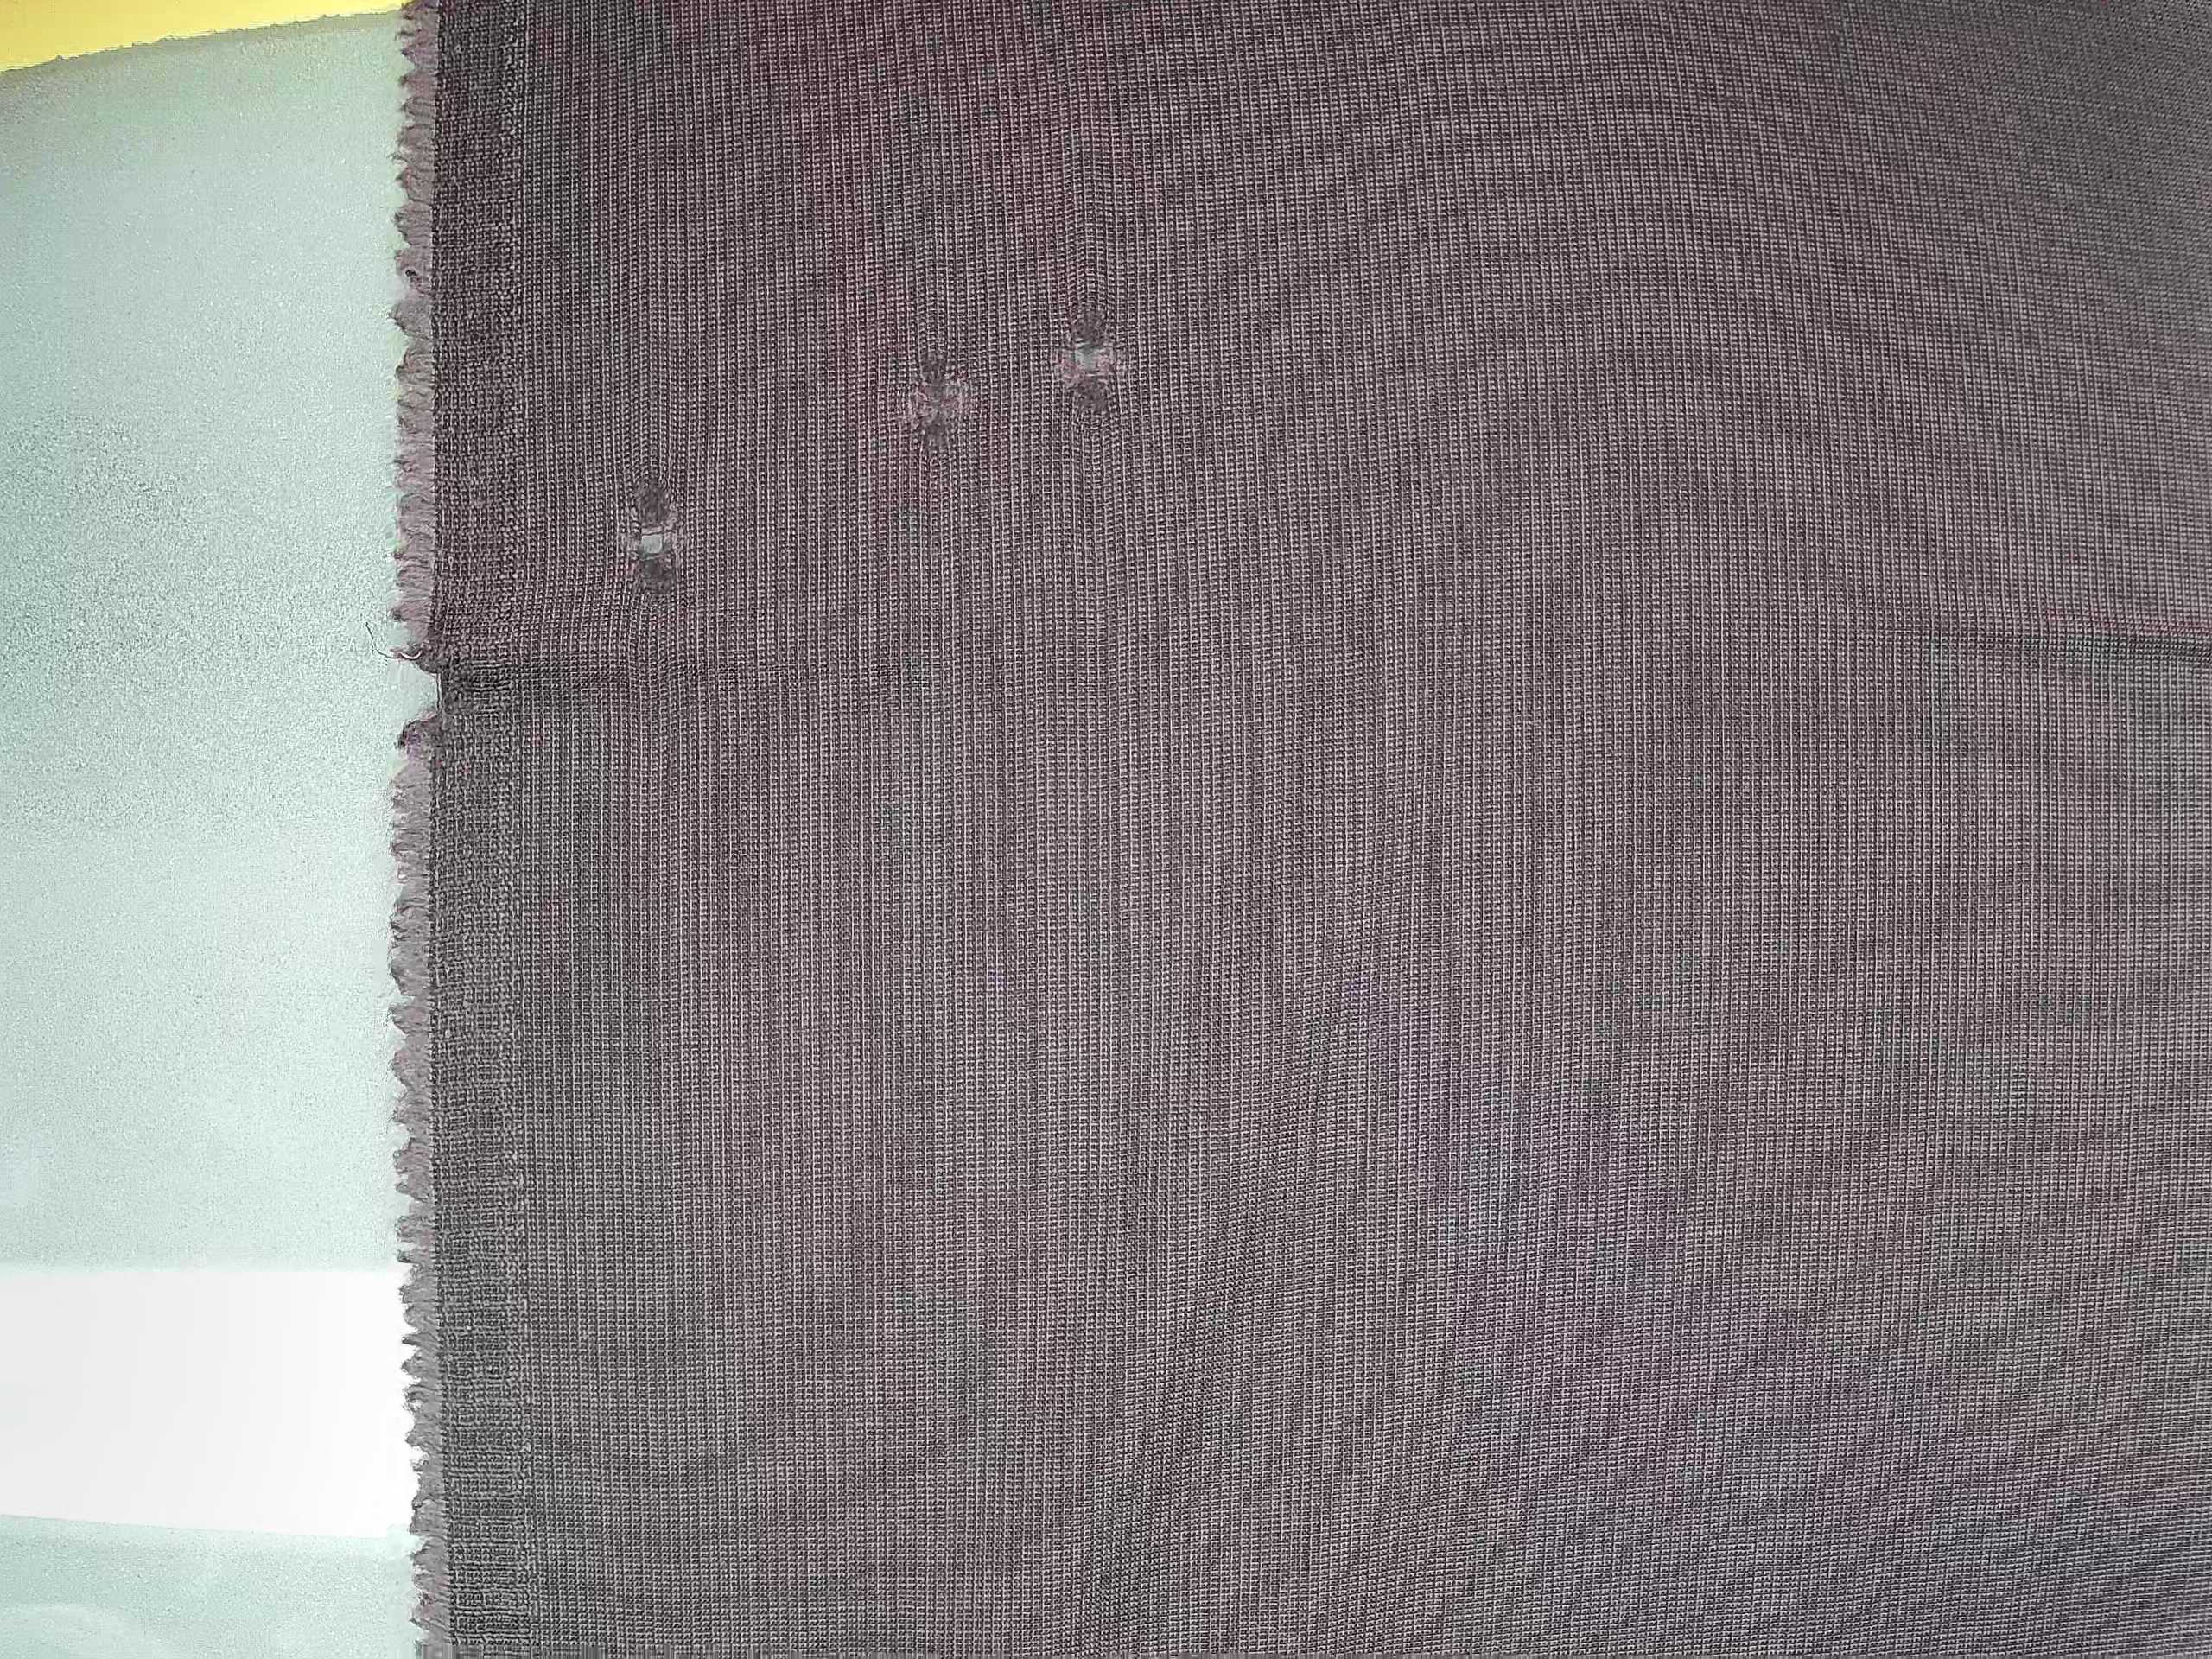brushed-hole: (606, 462, 700, 606), (1043, 293, 1136, 427), (890, 338, 979, 458)
